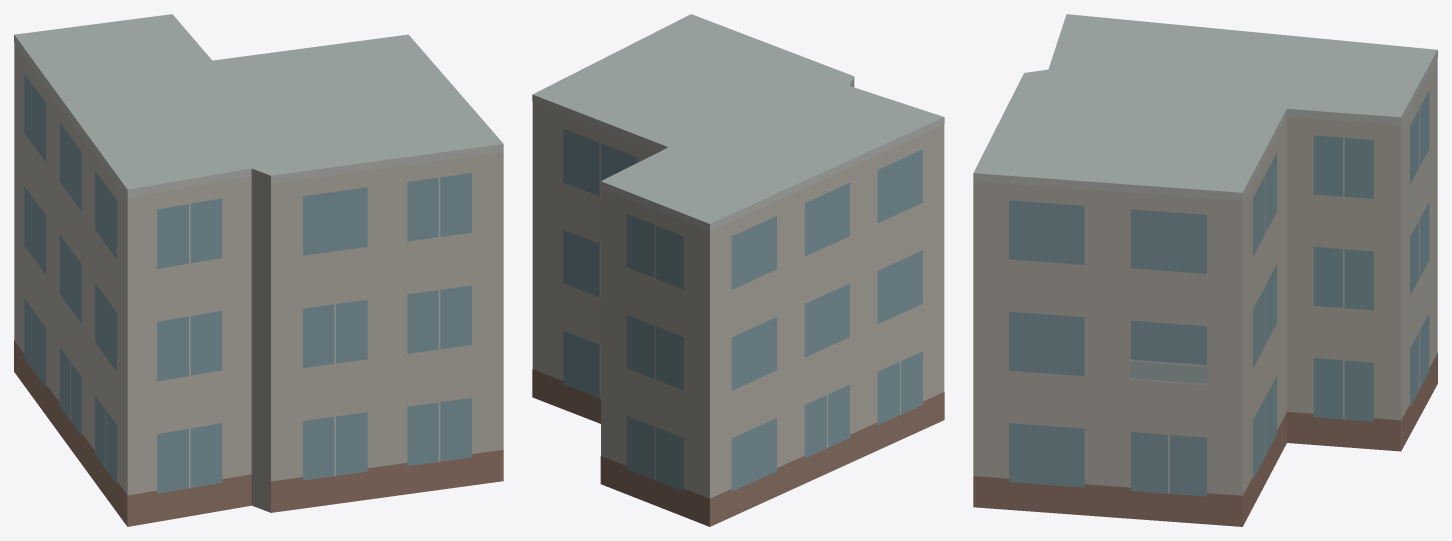
Rendered from survey-upis-32942031.glb.
The picture shows the model from 3 angles, left to right: view 1: azimuth 30°, elevation 25°; view 2: azimuth 150°, elevation 25°; view 3: azimuth 270°, elevation 25°; orthographic projection. The views are drawn at different scales.
Visible parts, largest first — view 1: survey-upis-32942031.tmp; view 2: survey-upis-32942031.tmp; view 3: survey-upis-32942031.tmp.
Part boxes in pixels (box(x1,y1,x2,y2)): survey-upis-32942031.tmp: box(14, 14, 503, 526); survey-upis-32942031.tmp: box(532, 14, 944, 526); survey-upis-32942031.tmp: box(973, 14, 1437, 526).
Size of the model in its own units: 11.72 by 10.2 by 12.86.
